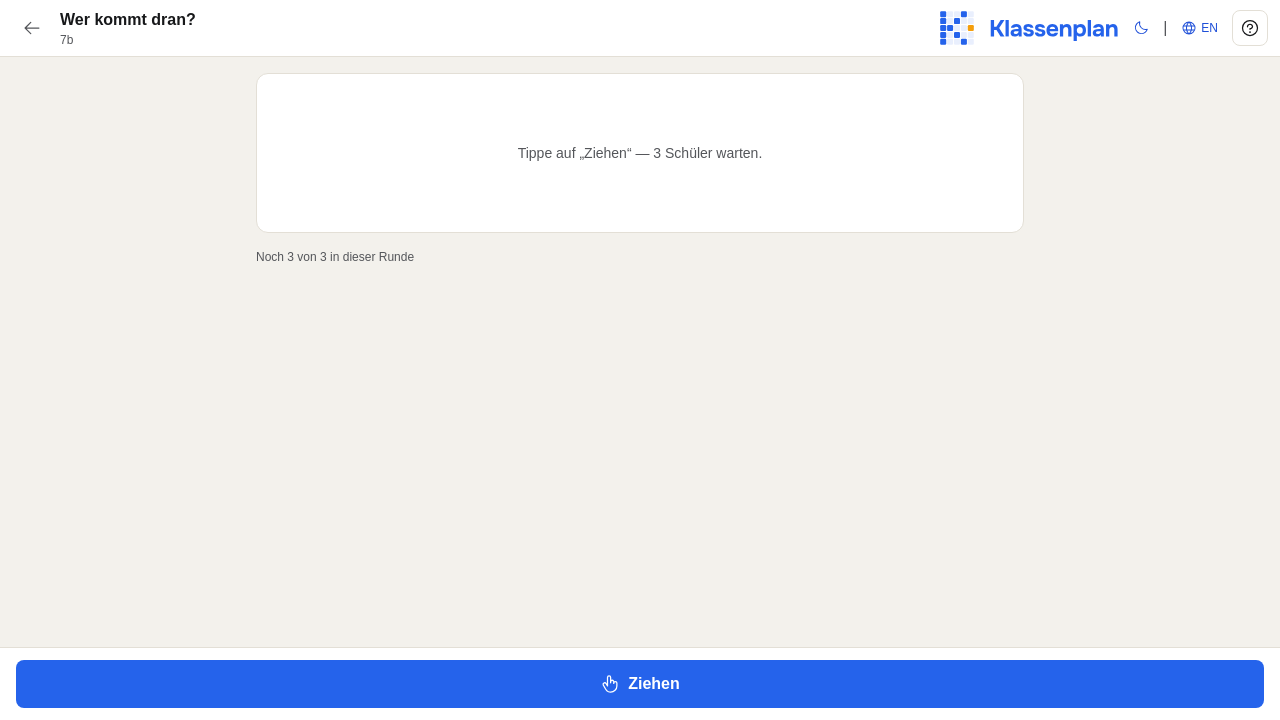
Test: Wer kommt dran? › draws from the class list while the plan is for tables that are gone
Click the button "Ziehen". click: click(640, 684)
box: [16,660,1264,708]
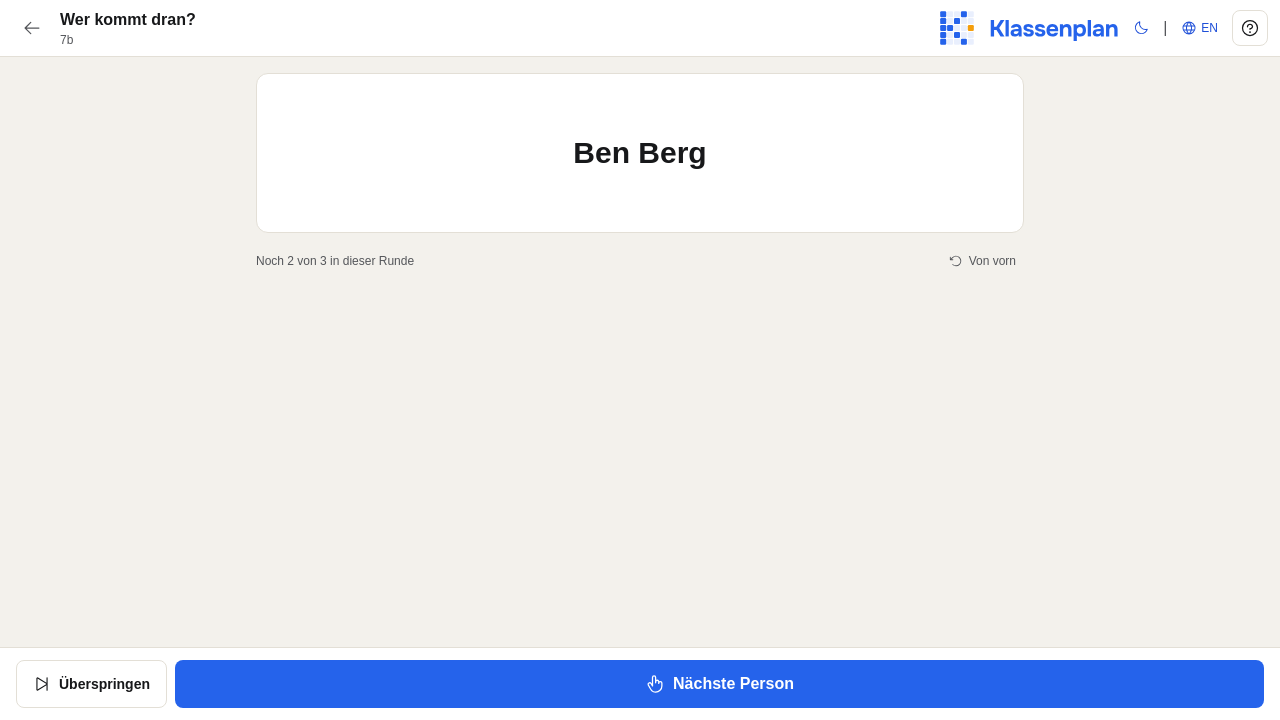
Now the message reads "Ben Berg", box [573,136,707,169]
